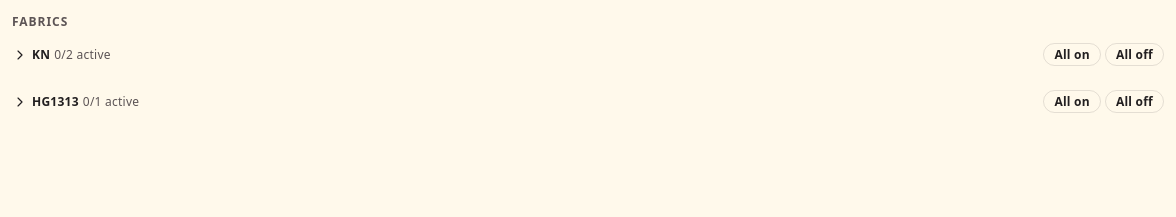
FabricAllowedSection › opens on the header, and a chip toggles its code and the count
Click the button "KN 0/2 active" at (61, 55), box [12,46,111,63]
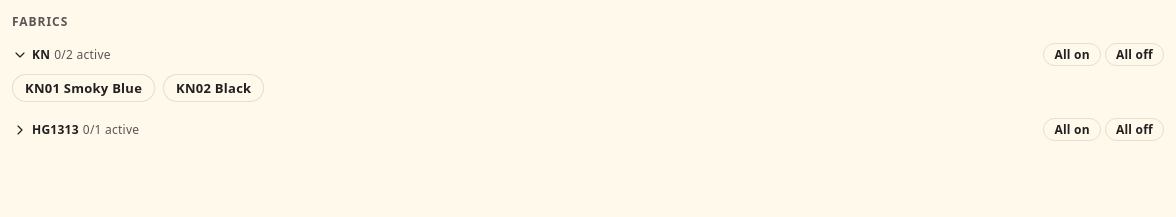
Expected: the button "KN 0/2 active" is expanded, [12,46,111,63]
Click the button "KN02 Black" at (214, 88), box [163,74,264,102]
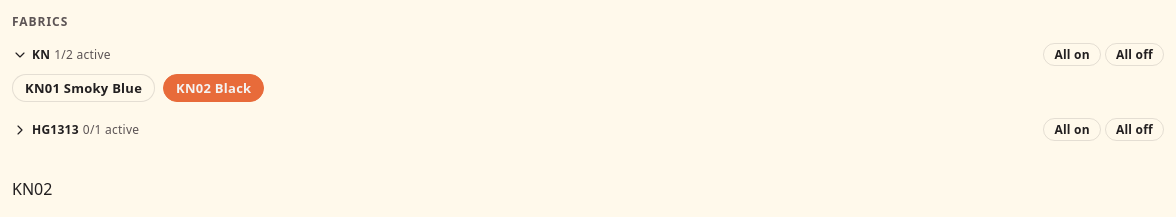
Expected: the button "KN 1/2 active" is shown, [12,46,111,63]
Expected: the text with test id "saved" reads "KN02", [12,178,52,200]
